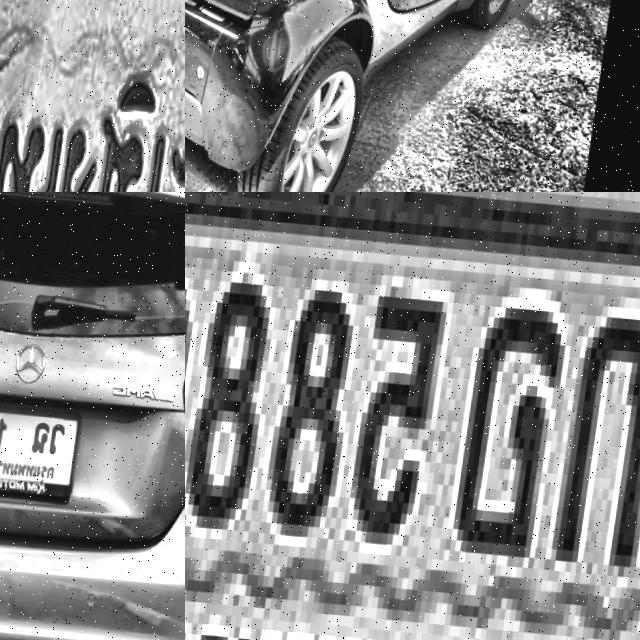license-plate: (185, 192, 640, 640), (0, 0, 185, 192), (0, 393, 89, 501)
